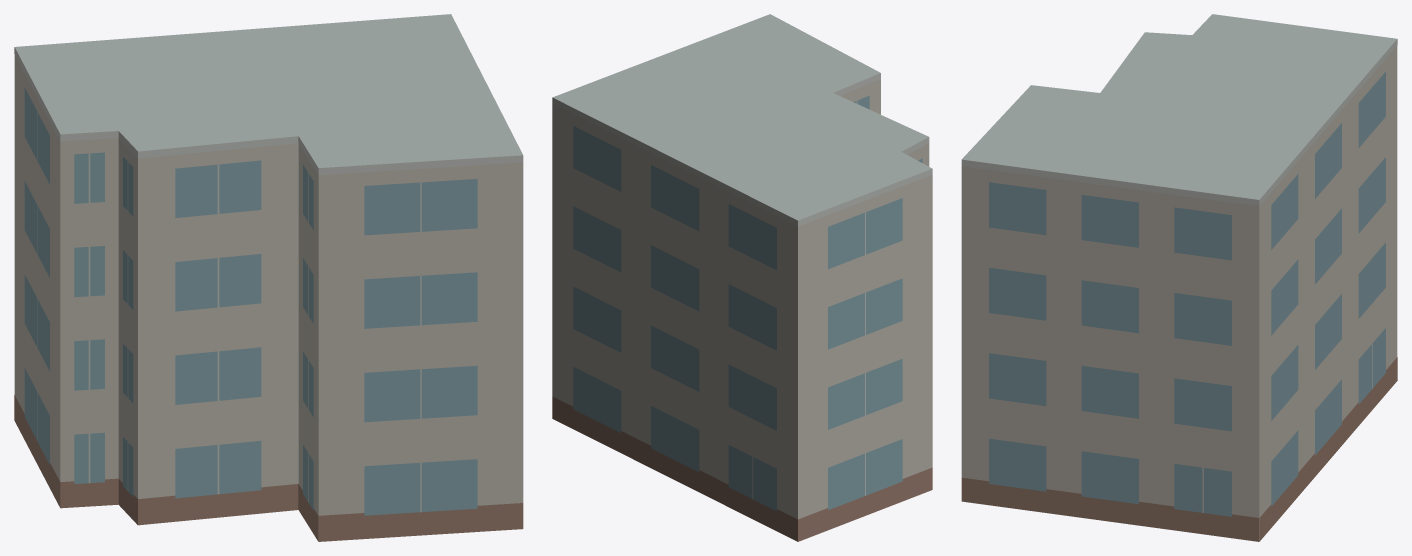
Rendered from survey-upis-32875850.glb.
3 views of the same model, side by side, from view 1: azimuth 30°, elevation 25°; view 2: azimuth 150°, elevation 25°; view 3: azimuth 270°, elevation 25° (orthographic). The views are drawn at different scales.
Parts seen in each view (by area): view 1: survey-upis-32875850.tmp; view 2: survey-upis-32875850.tmp; view 3: survey-upis-32875850.tmp.
Boxes of the visible parts, bbox=[...] form: survey-upis-32875850.tmp: bbox=[14, 14, 523, 541]; survey-upis-32875850.tmp: bbox=[552, 14, 932, 541]; survey-upis-32875850.tmp: bbox=[961, 14, 1397, 541].
Bounding box in the file's own units: 15.11 × 12.95 × 14.97.
